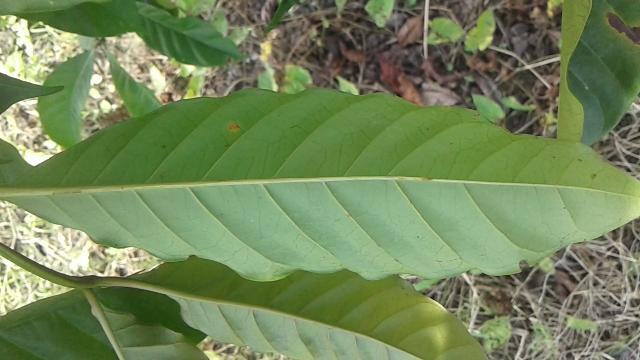rust_level_1: (1, 86, 640, 279)
